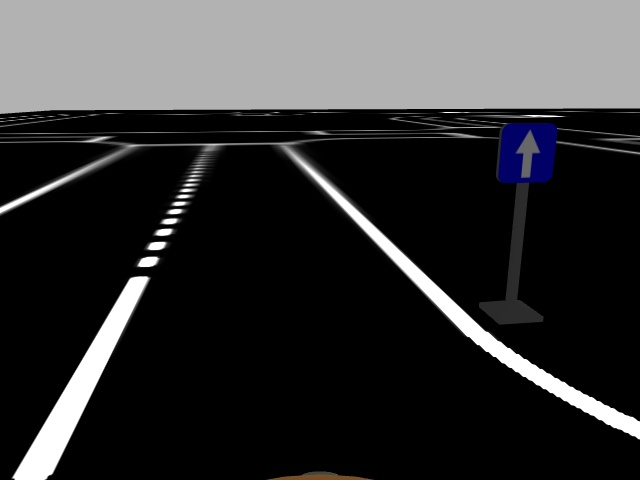oneway: (498, 120, 559, 186)
